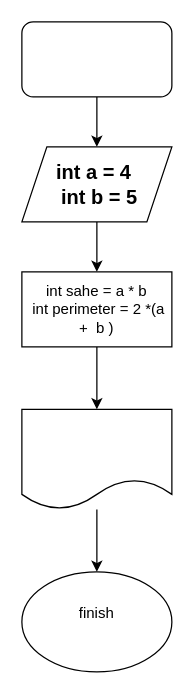
This 194x694 diagram has some shape labels left out. Each missing label, with the centre of its shape:
"sahe perimeter" goes at [96,458].
"start" goes at [96,59].
